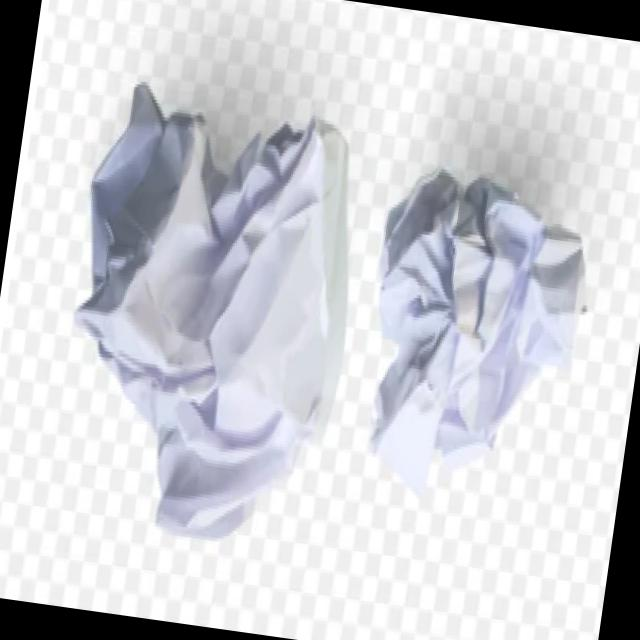KertasBekas: (44, 80, 379, 562), (349, 163, 601, 522)
